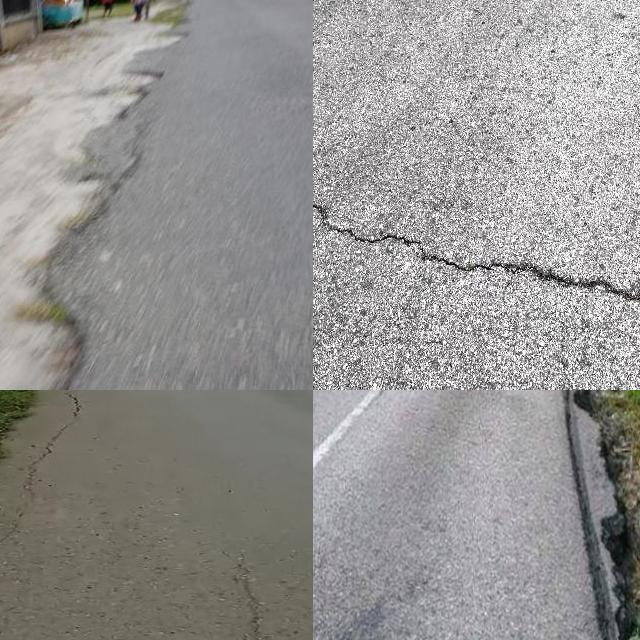Melintang: (313, 190, 640, 314)
Pinggir: (0, 41, 195, 390), (551, 390, 640, 640), (0, 390, 105, 526)
